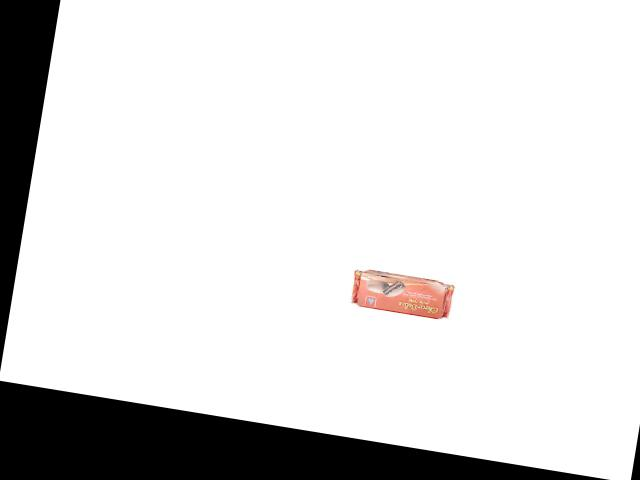chocolate: (347, 257, 457, 321)
